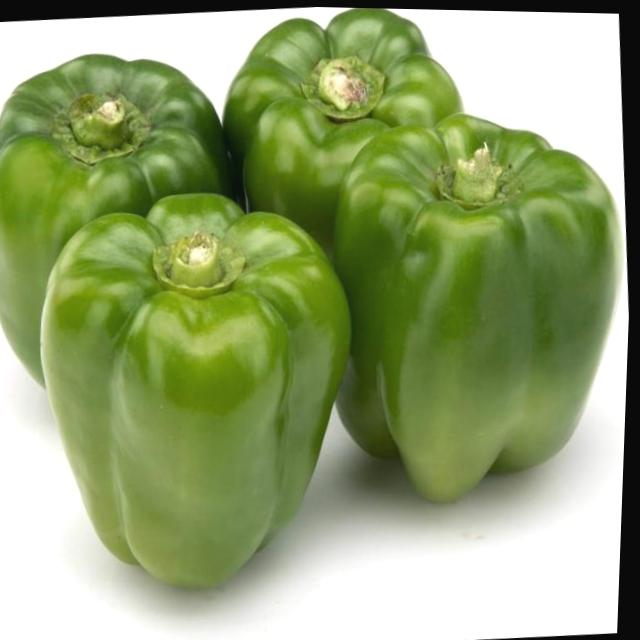Capsicum: (26, 175, 376, 601), (312, 95, 637, 508), (0, 38, 246, 396), (212, 4, 472, 211)
